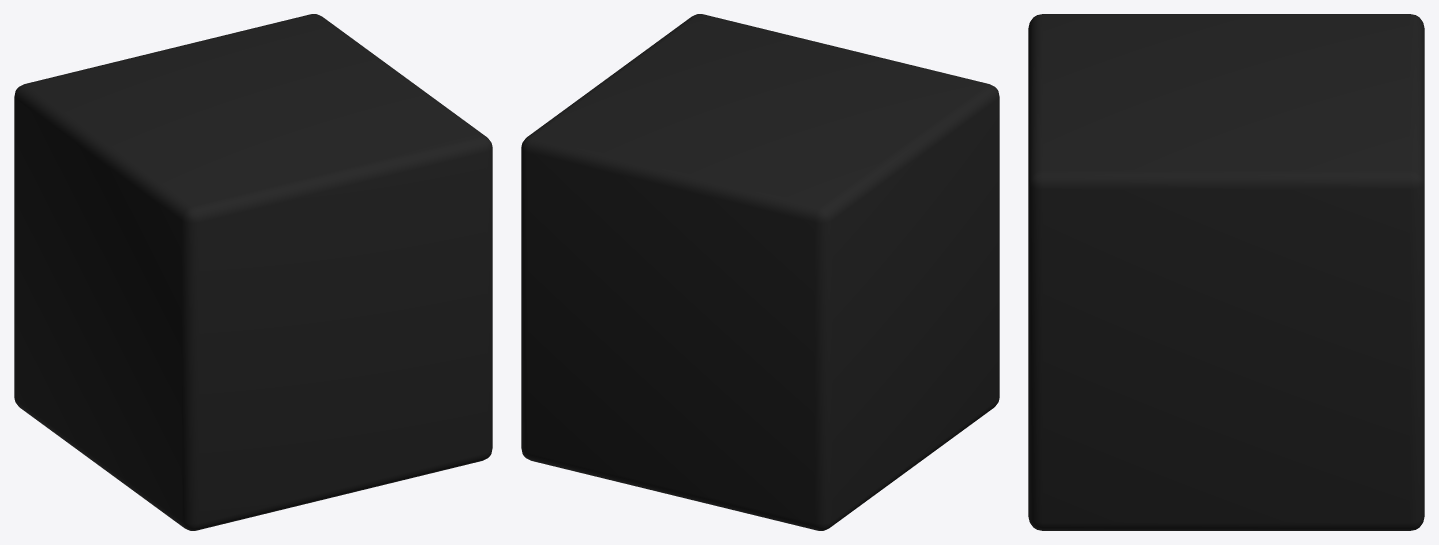
Rendered from black_medium_square.glb.
3 renders of one model, left to right at view 1: azimuth 30°, elevation 25°; view 2: azimuth 150°, elevation 25°; view 3: azimuth 270°, elevation 25°, orthographic. The views are drawn at different scales.
Visible parts, largest first — view 1: brown_square.003; view 2: brown_square.003; view 3: brown_square.003.
Boxes of the visible parts, left/top/right/bottom form: brown_square.003: left=14, top=14, right=492, bottom=530; brown_square.003: left=521, top=14, right=999, bottom=530; brown_square.003: left=1028, top=14, right=1424, bottom=530.
Size of the model in its own units: 1.53 by 1.53 by 1.53.
1 material, 1 textured.
